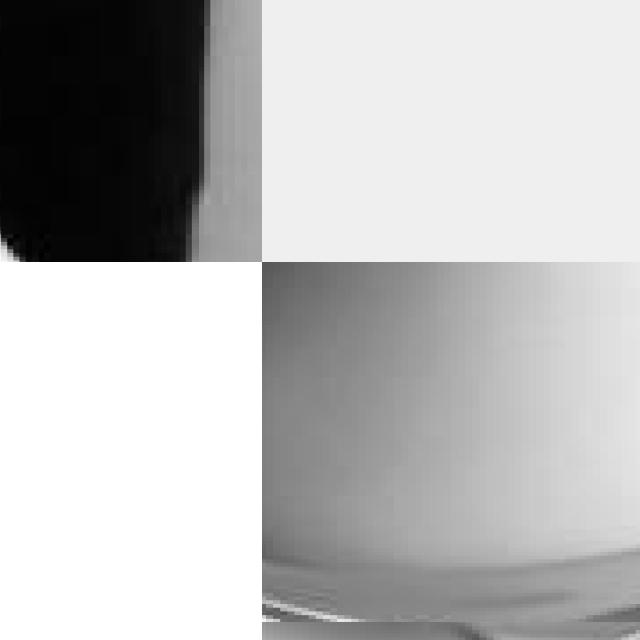spoons: (262, 262, 640, 622), (0, 0, 262, 262)
